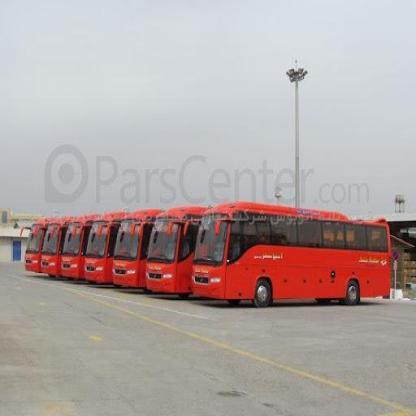Bus: (192, 198, 393, 301), (145, 203, 202, 288), (112, 217, 144, 287), (86, 214, 117, 283), (22, 219, 50, 274), (42, 220, 68, 274), (64, 218, 86, 278)
